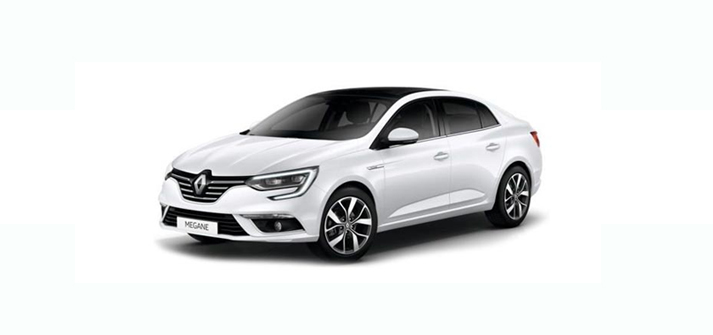car: (153, 81, 556, 264)
